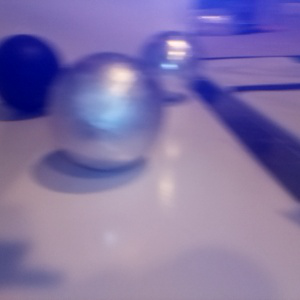alive_ball: (50, 50, 162, 169), (142, 29, 201, 99)
dead_ball: (1, 33, 62, 112)
